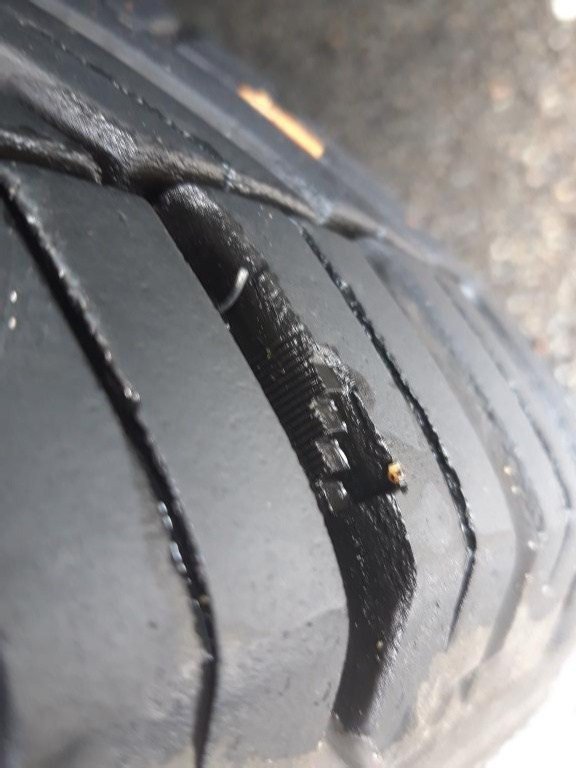temoin:80: (244, 329, 411, 526)
